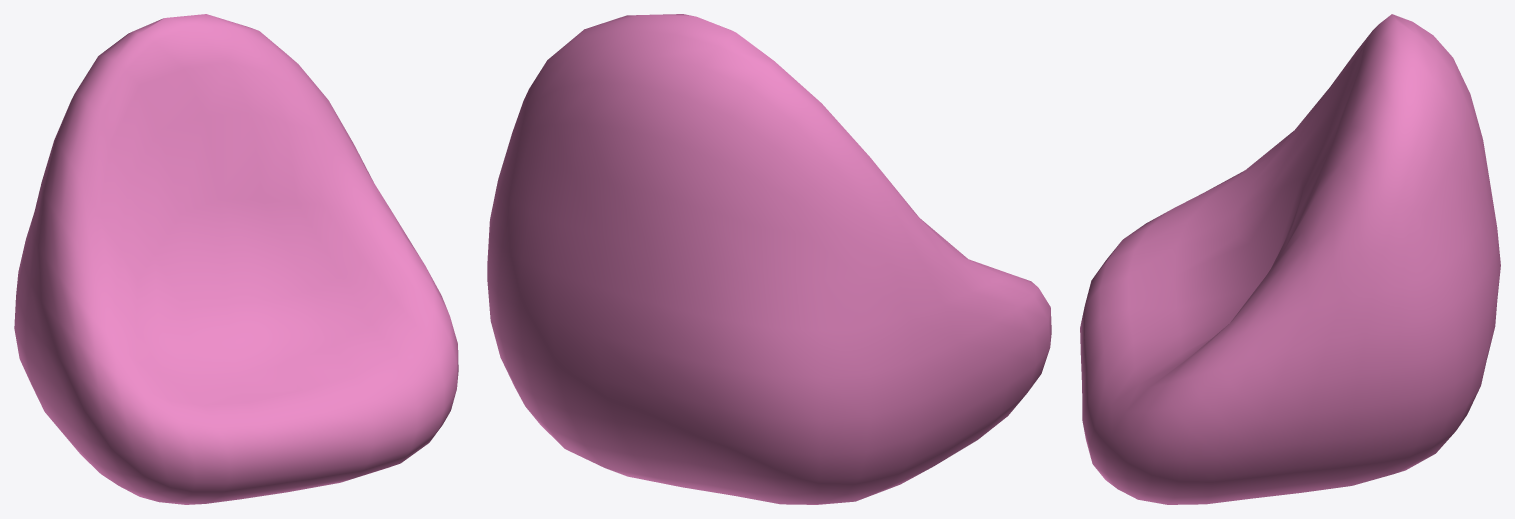
Rendered from beanbag pink.fbx.
3 views of the same model, side by side, from view 1: azimuth 30°, elevation 25°; view 2: azimuth 150°, elevation 25°; view 3: azimuth 270°, elevation 25° (orthographic). The views are drawn at different scales.
Parts seen in each view (by area): view 1: Cube; view 2: Cube; view 3: Cube.
Part boxes in pixels (x1,y1,x2,y2): Cube: [14, 14, 458, 504]; Cube: [487, 14, 1051, 504]; Cube: [1080, 14, 1500, 504].
Size of the model in its own units: 96.18 by 98.68 by 87.58.
